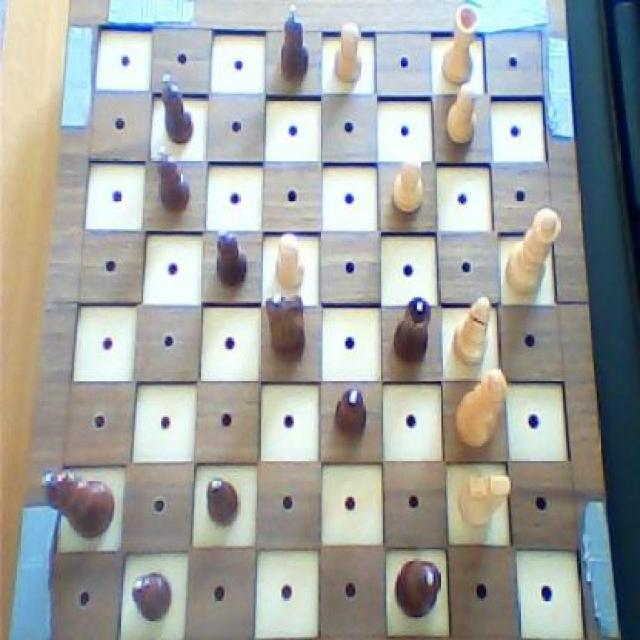black-bishop: (37, 464, 117, 540)
black-king: (260, 290, 312, 368)
black-knight: (156, 70, 197, 146), (275, 0, 310, 83), (154, 141, 192, 217), (211, 226, 248, 291), (129, 570, 174, 622), (203, 471, 243, 529), (331, 386, 369, 443)
black-pawn: (394, 552, 444, 621)
black-queen: (389, 294, 439, 372)
black-rook: (449, 292, 494, 372)
white-bishop: (451, 368, 509, 455)
white-king: (455, 471, 513, 530)
white-knight: (442, 78, 479, 150), (390, 151, 426, 219), (329, 20, 365, 87), (271, 228, 307, 290)
white-pawn: (505, 203, 562, 299)
white-queen: (436, 2, 480, 88)
